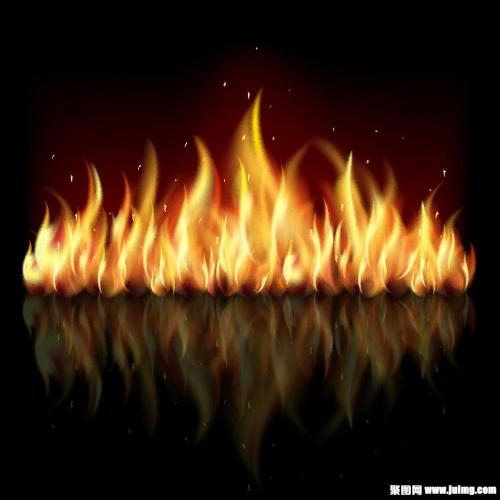fire: (32, 154, 475, 285)
